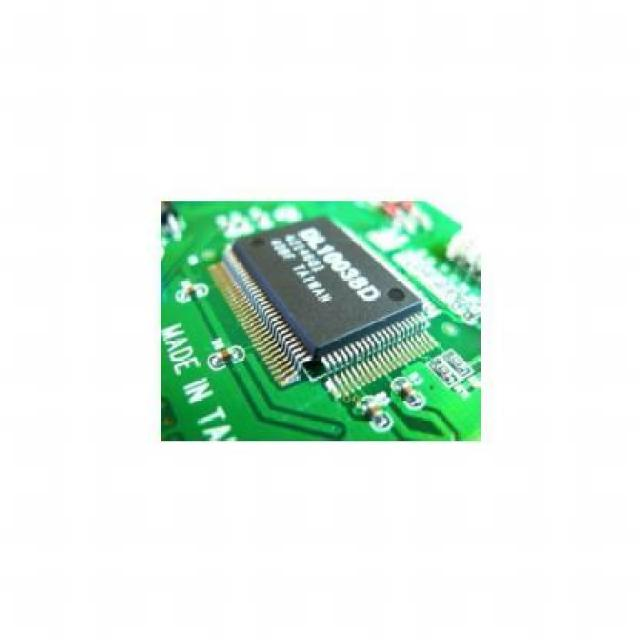IC chip: (208, 214, 442, 399)
